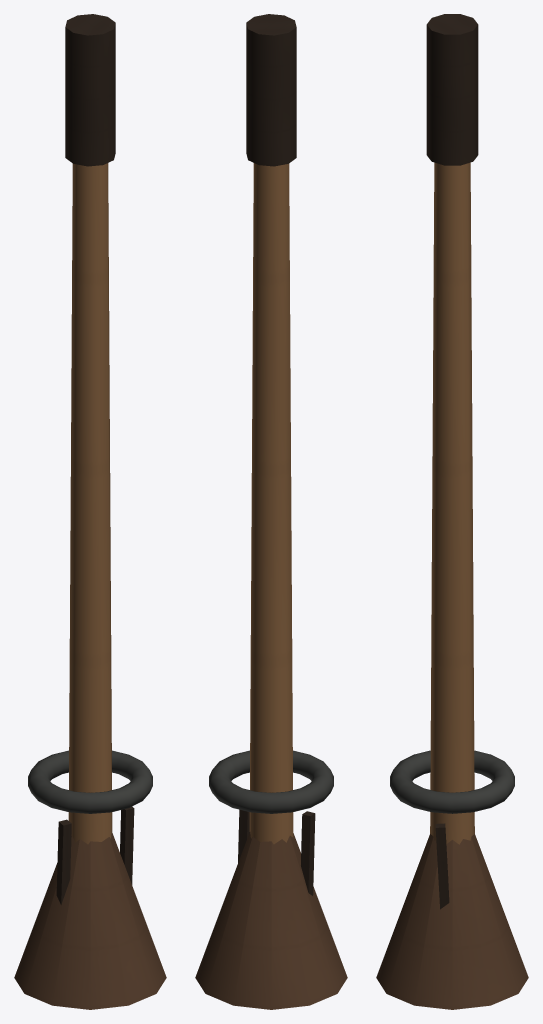
Rendered from sk-household-broom.glb.
The picture shows the model from 3 angles, left to right: view 1: azimuth 30°, elevation 25°; view 2: azimuth 150°, elevation 25°; view 3: azimuth 270°, elevation 25°; orthographic projection.
Visible parts, largest first — view 1: broom-handle, broom-bristles, household:broom-static-wood, broom-binding; view 2: broom-handle, broom-bristles, household:broom-static-wood, broom-binding; view 3: broom-handle, broom-bristles, household:broom-static-wood, broom-binding.
Part boxes in pixels (<box>): broom-handle: <box>68,163,112,844</box>; broom-bristles: <box>14,832,166,1009</box>; household:broom-static-wood: <box>56,14,134,904</box>; broom-binding: <box>28,750,152,813</box>; broom-handle: <box>249,163,293,844</box>; broom-bristles: <box>195,832,347,1009</box>; household:broom-static-wood: <box>238,14,315,895</box>; broom-binding: <box>209,750,333,813</box>; broom-handle: <box>430,162,474,844</box>; broom-bristles: <box>376,834,528,1009</box>; household:broom-static-wood: <box>426,14,478,909</box>; broom-binding: <box>390,750,514,813</box>.
Size of the model in its own units: 0.19 by 1.31 by 0.19.
4 materials, 4 textured.
